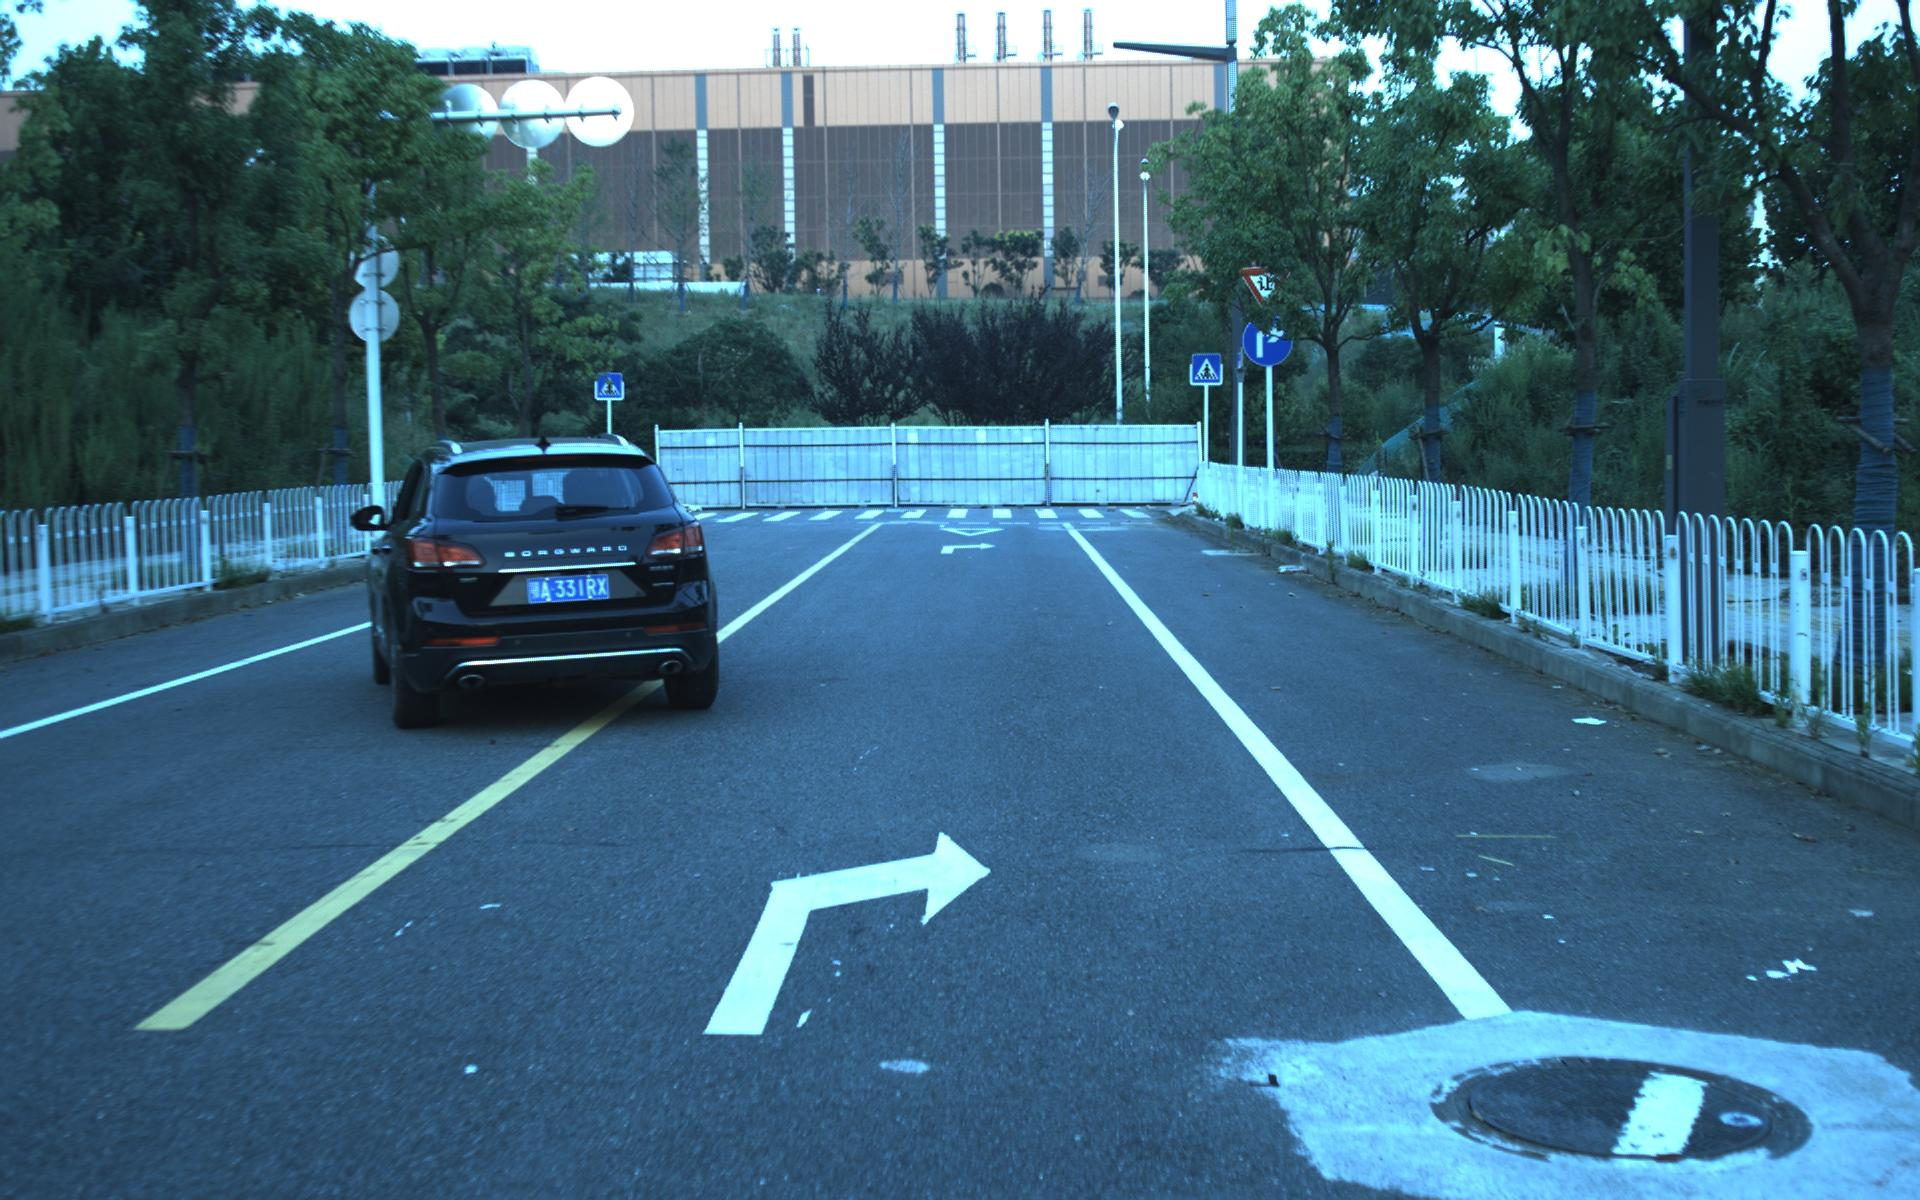Car: (361, 431, 730, 731)
